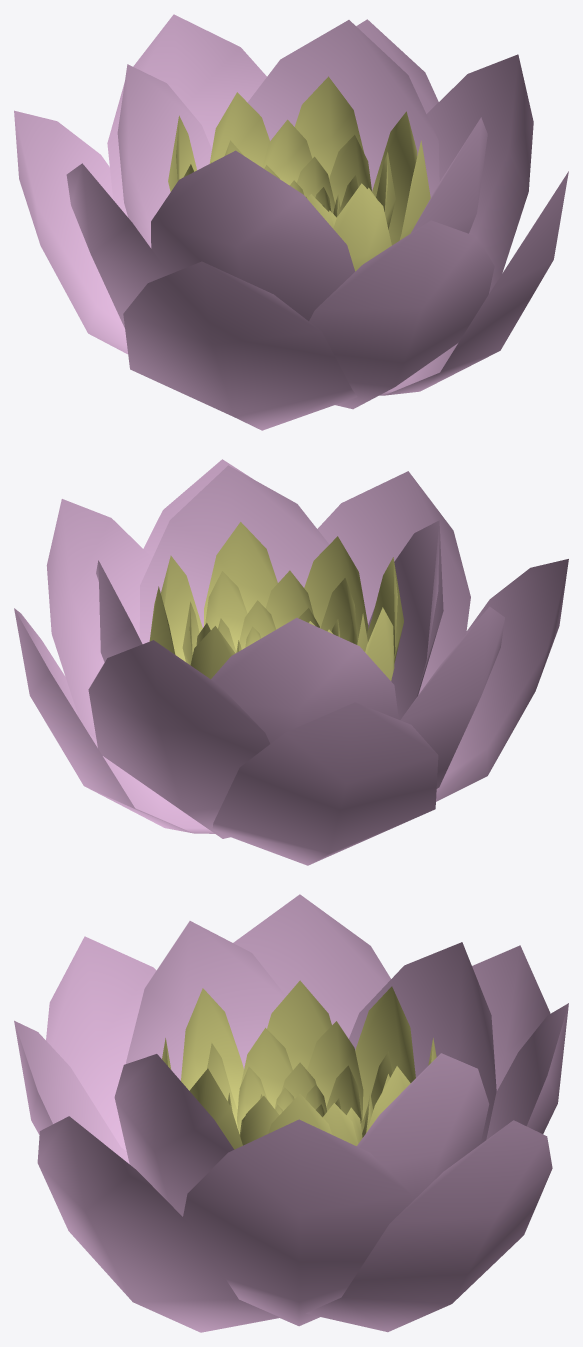
File: Water_Lilly.fbx
3 views of the same model, one above another, from view 1: azimuth 30°, elevation 25°; view 2: azimuth 150°, elevation 25°; view 3: azimuth 270°, elevation 25° (orthographic). The views are drawn at different scales.
Parts seen in each view (by area): view 1: polySurface54; view 2: polySurface54; view 3: polySurface54.
Part boxes in pixels (x1,y1,x2,y2): polySurface54: (14,14,568,430); polySurface54: (14,459,568,865); polySurface54: (14,894,568,1332).
Bounding box in the file's own units: 3.8 × 2.48 × 3.88.
